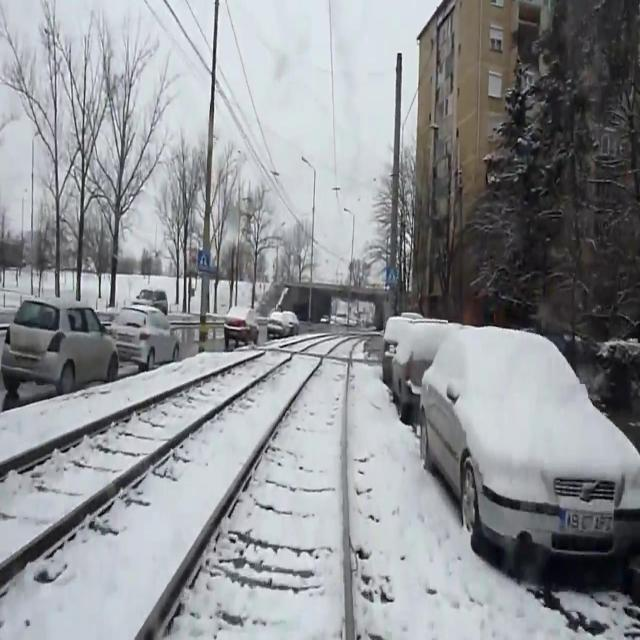rail-track: (0, 339, 316, 560), (144, 340, 355, 639)
